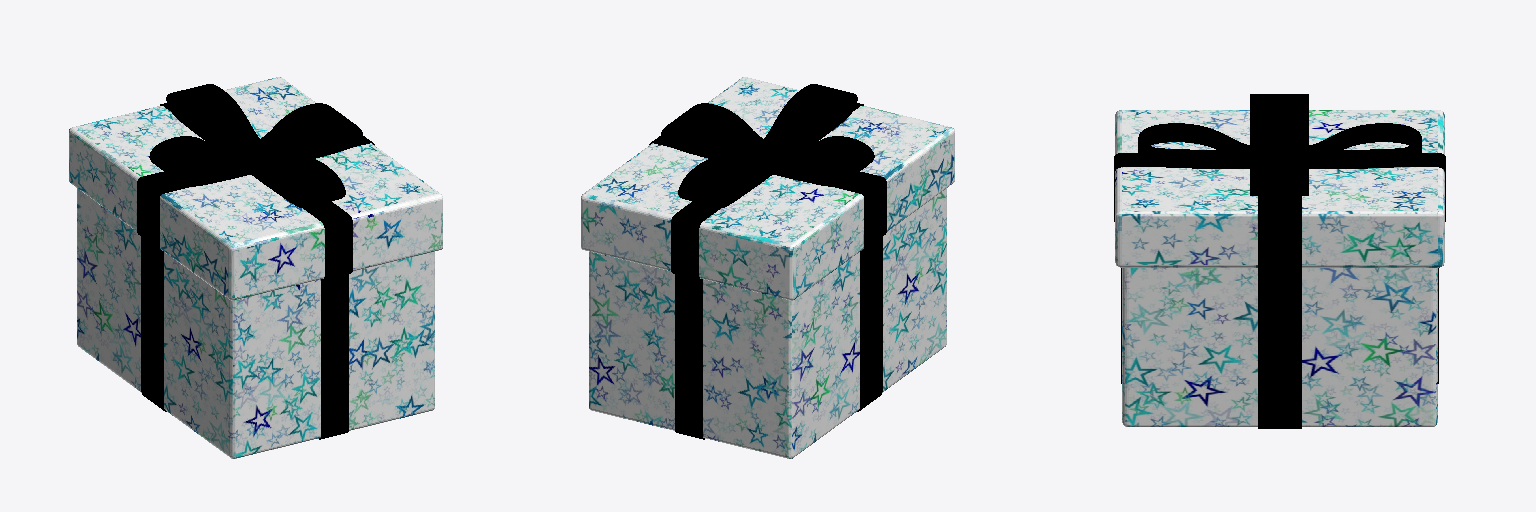
3 views of the same model, side by side, from view 1: azimuth 30°, elevation 25°; view 2: azimuth 150°, elevation 25°; view 3: azimuth 270°, elevation 25° (orthographic).
Visible parts, largest first — view 1: BOX_BOX_01___Default, BOX_BOX_02___Default; view 2: BOX_BOX_01___Default, BOX_BOX_02___Default; view 3: BOX_BOX_01___Default, BOX_BOX_02___Default.
Part boxes in pixels (left/top/right/bottom): BOX_BOX_01___Default: left=69, top=77, right=442, bottom=458; BOX_BOX_02___Default: left=137, top=84, right=374, bottom=439; BOX_BOX_01___Default: left=581, top=77, right=954, bottom=458; BOX_BOX_02___Default: left=649, top=84, right=886, bottom=439; BOX_BOX_01___Default: left=1115, top=110, right=1444, bottom=426; BOX_BOX_02___Default: left=1114, top=94, right=1445, bottom=428.
Bounding box in the file's own units: 1.59 × 1.75 × 2.12.
Materials: 2 (1 with a texture image).